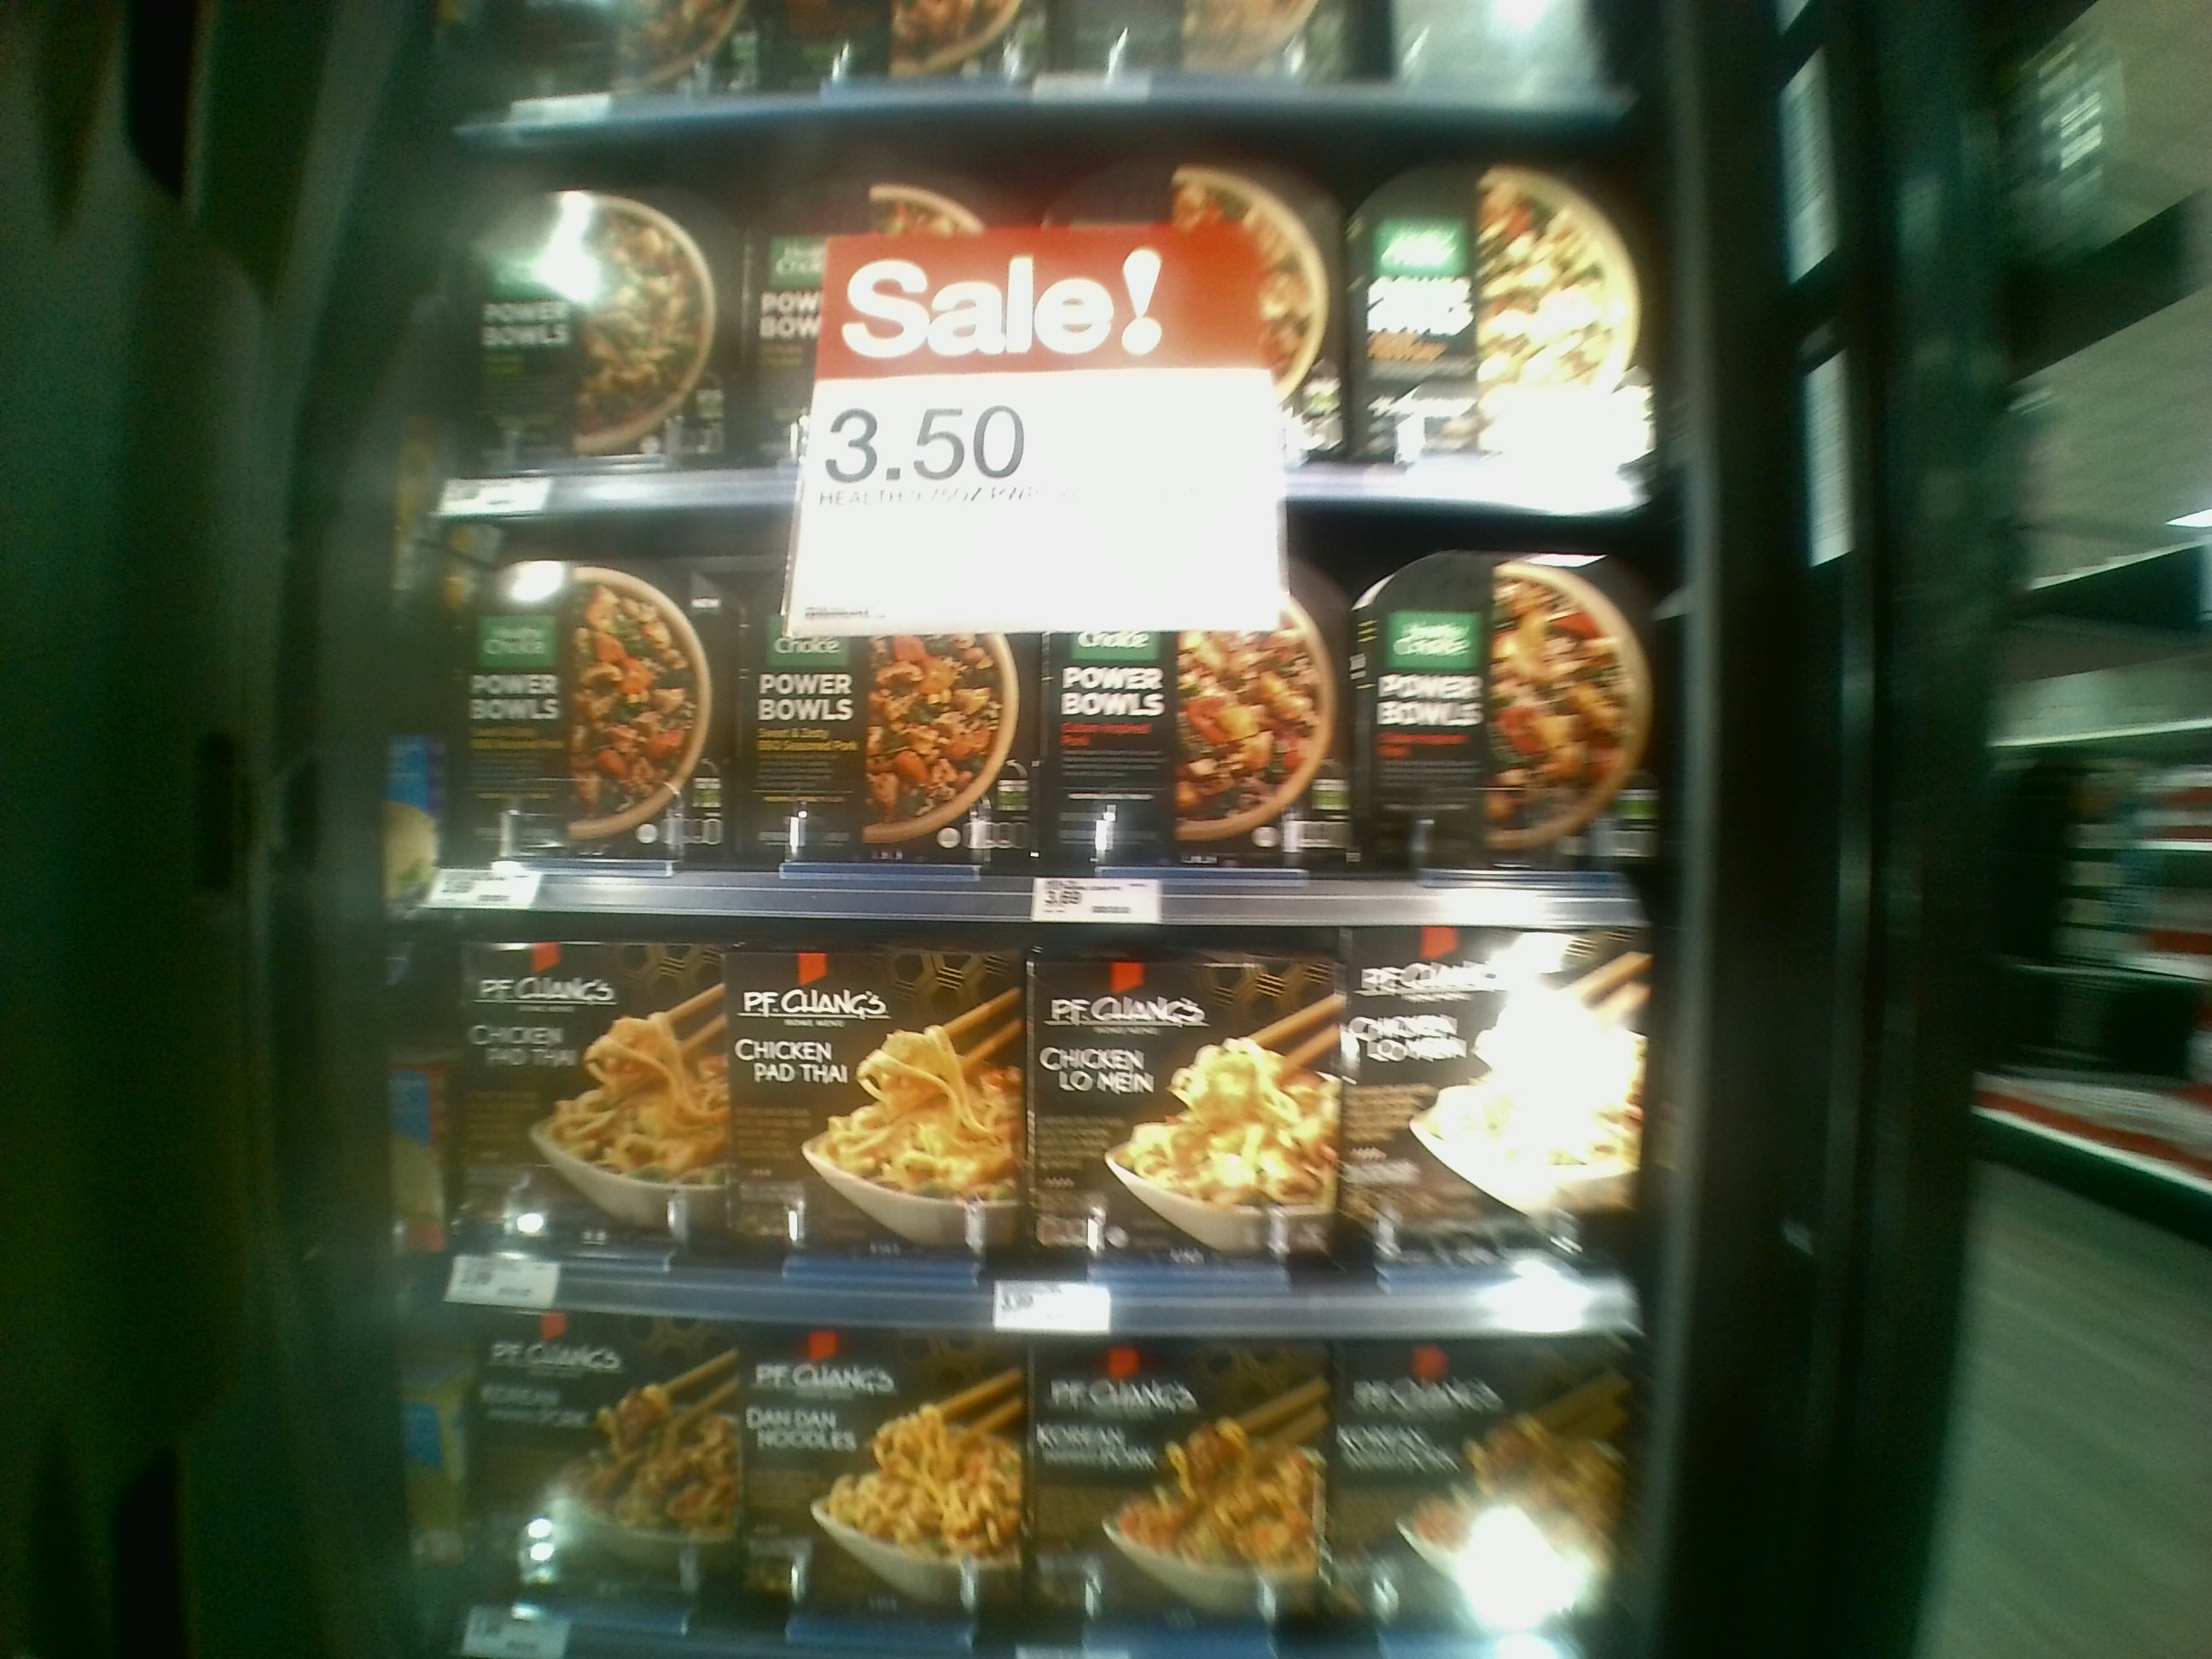shelf: (441, 894, 1637, 1328), (423, 495, 1642, 917), (430, 108, 1648, 512)
